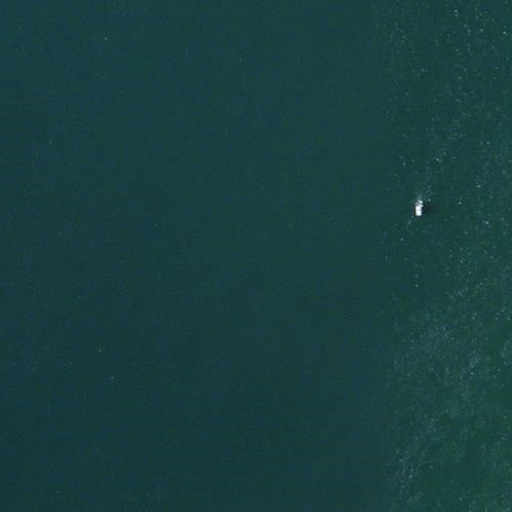ship: (412, 197, 426, 219)
